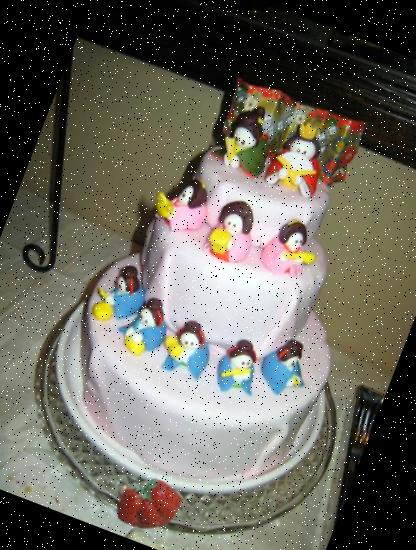Strawberry: (107, 462, 192, 546)
